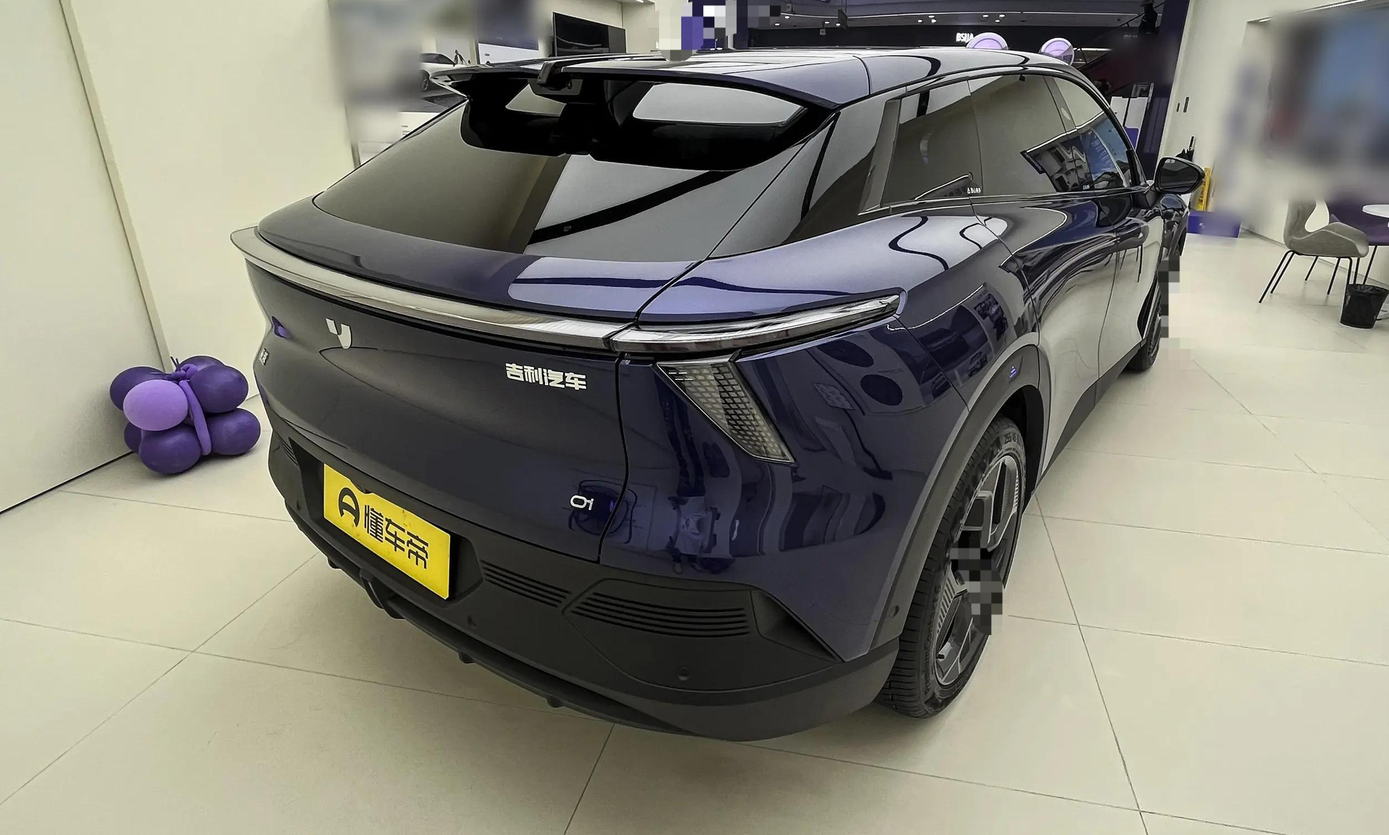JIYUE: (326, 318, 352, 349)
